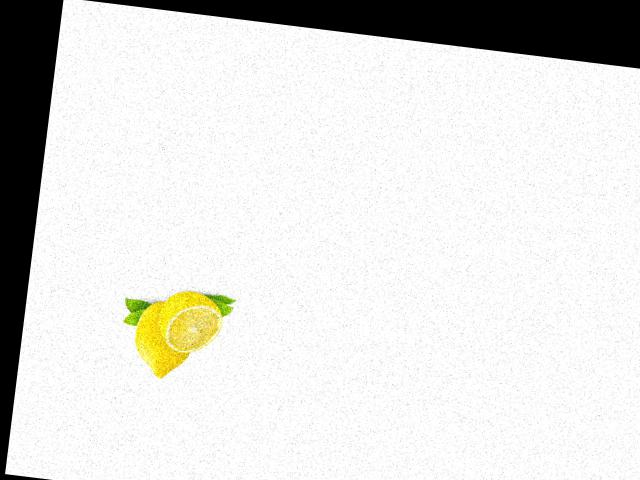lemon: (123, 290, 199, 383)
